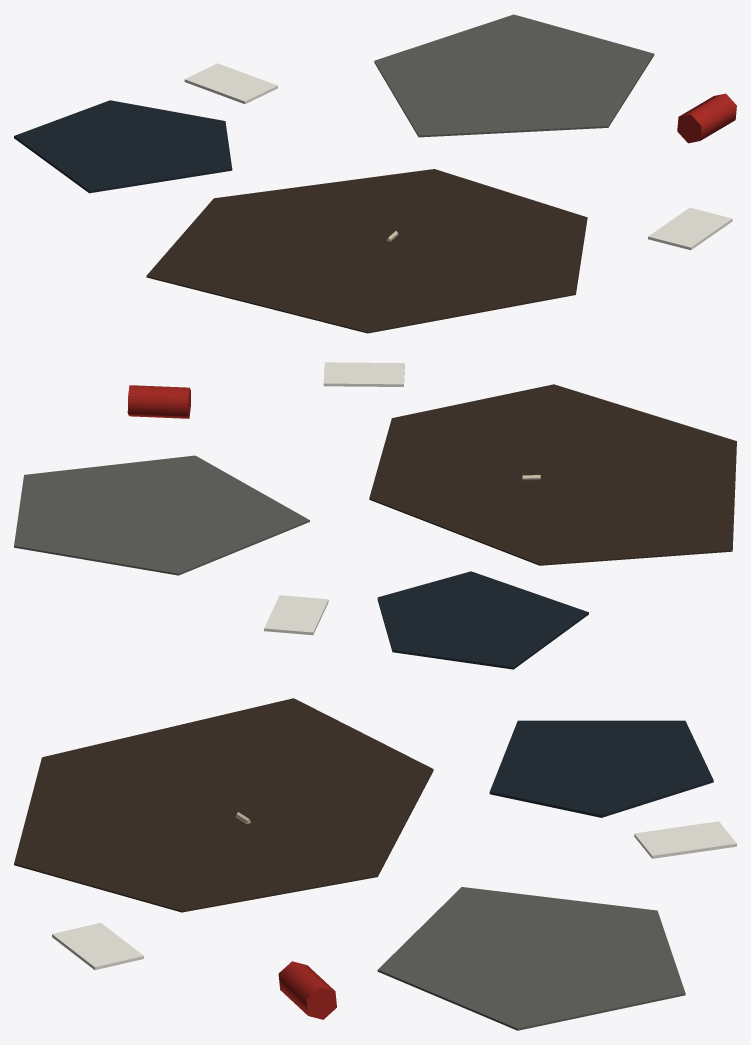
Rendered from ground_grime.glb.
3 renders of one model, top to bottom at view 1: azimuth 30°, elevation 25°; view 2: azimuth 150°, elevation 25°; view 3: azimuth 270°, elevation 25°, orthographic. The views are drawn at different scales.
Parts seen in each view (by area): view 1: ground_grime; view 2: ground_grime; view 3: ground_grime.
Part boxes in pixels (bbox=[...]): ground_grime: bbox=[14, 14, 736, 333]; ground_grime: bbox=[14, 362, 736, 669]; ground_grime: bbox=[14, 698, 736, 1030].
Bounding box in the file's own units: 1.4 × 0.0678 × 1.29.
1 material, 1 textured.
